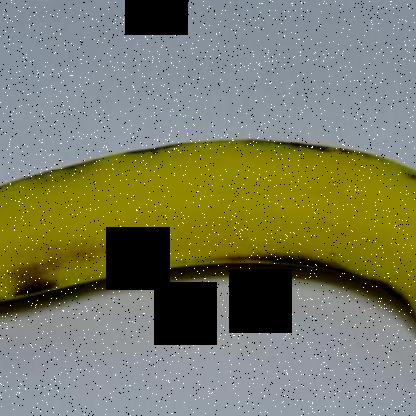freshripe: (0, 119, 415, 355)
